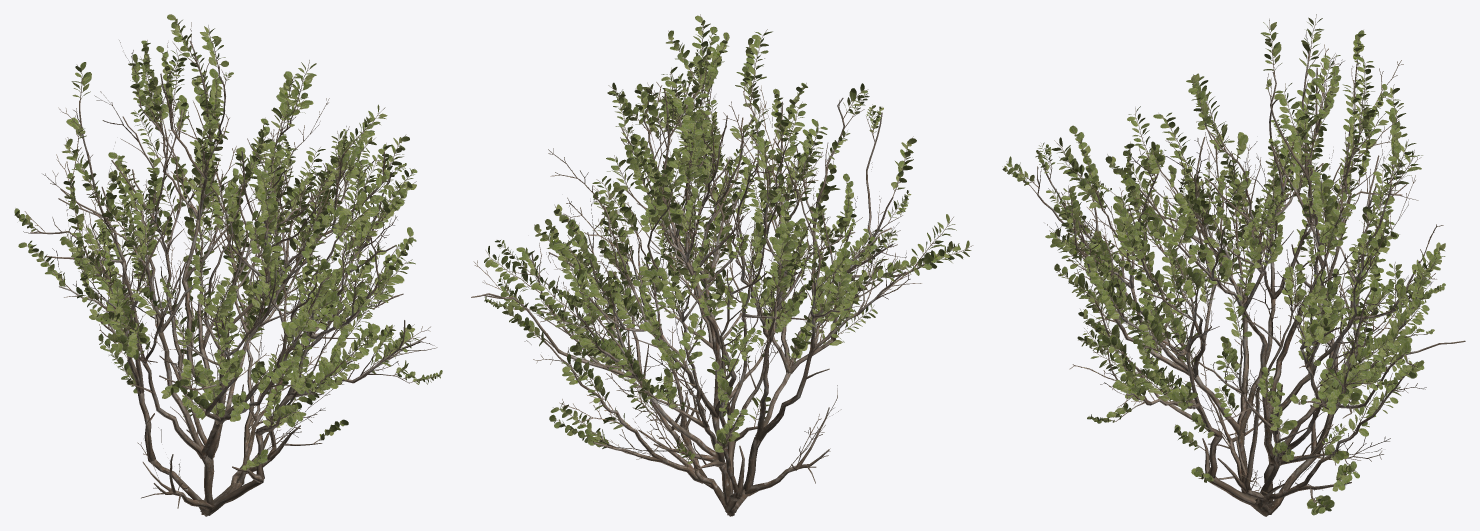
Rendered from searsia_lucida_a_LOD0.obj.
3 views of the same model, side by side, from view 1: azimuth 30°, elevation 25°; view 2: azimuth 150°, elevation 25°; view 3: azimuth 270°, elevation 25° (orthographic). The views are drawn at different scales.
Parts seen in each view (by area): view 1: searsia_lucida_a_LOD0; view 2: searsia_lucida_a_LOD0; view 3: searsia_lucida_a_LOD0.
Boxes of the visible parts, x1,y1,x2,y2 form: searsia_lucida_a_LOD0: [14, 14, 442, 516]; searsia_lucida_a_LOD0: [471, 14, 973, 516]; searsia_lucida_a_LOD0: [1002, 14, 1465, 516].
Bounding box in the file's own units: 0.903 × 1.17 × 0.9828.
